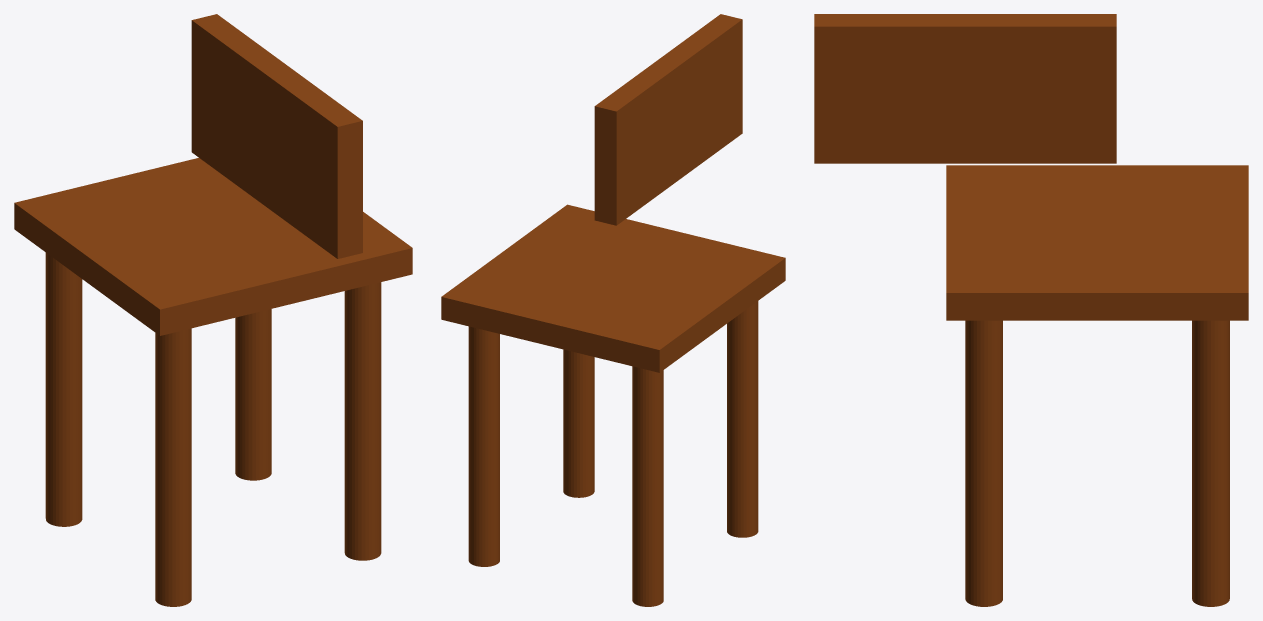
3 renders of one model, left to right at view 1: azimuth 30°, elevation 25°; view 2: azimuth 150°, elevation 25°; view 3: azimuth 270°, elevation 25°, orthographic. The views are drawn at different scales.
Parts seen in each view (by area): view 1: Seat, Backrest, Leg_2, Leg_1, Leg_3, Leg_4; view 2: Seat, Backrest, Leg_3, Leg_4, Leg_1, Leg_2; view 3: Seat, Backrest, Leg_2, Leg_4.
Boxes of the visible parts, <box> form: Seat: <box>14,158,412,335</box>; Backrest: <box>191,14,362,258</box>; Leg_2: <box>344,282,381,560</box>; Leg_1: <box>155,328,191,606</box>; Leg_3: <box>45,252,82,526</box>; Leg_4: <box>235,309,271,480</box>; Seat: <box>441,204,785,372</box>; Backrest: <box>594,14,742,225</box>; Leg_3: <box>632,366,663,606</box>; Leg_4: <box>468,326,499,566</box>; Leg_1: <box>727,301,758,537</box>; Leg_2: <box>563,349,594,497</box>; Seat: <box>946,165,1248,320</box>; Backrest: <box>814,14,1116,163</box>; Leg_2: <box>965,320,1002,606</box>; Leg_4: <box>1192,320,1229,606</box>.
Bounding box in the file's own units: 0.8 × 1.55 × 1.15.
